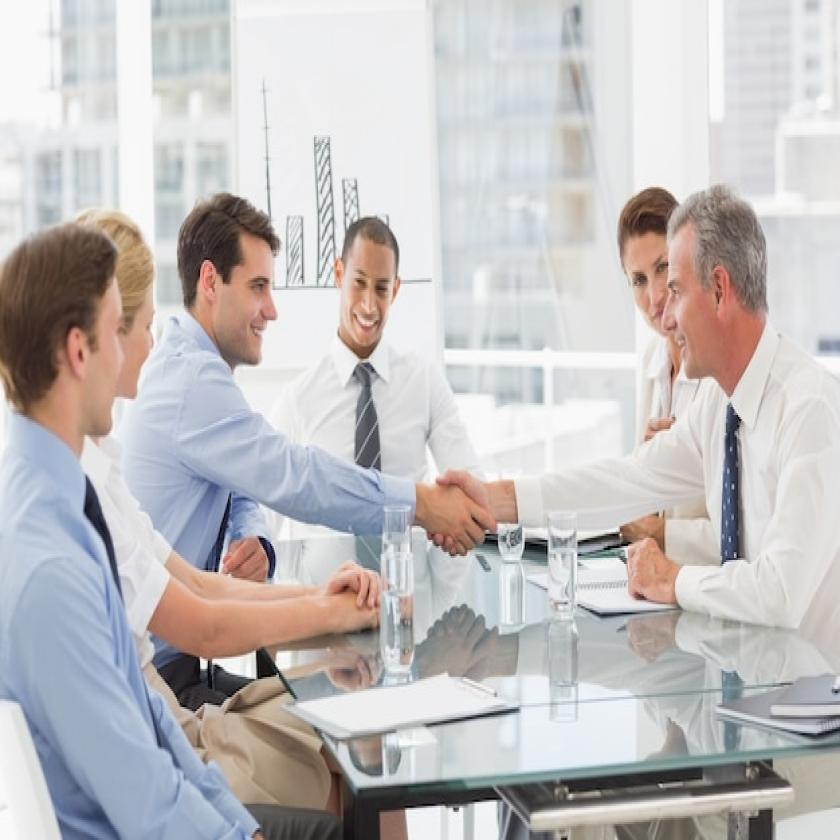Sin_casco: (0, 235, 127, 445), (667, 188, 768, 400), (177, 194, 288, 379), (86, 206, 157, 411), (333, 213, 406, 352), (616, 181, 676, 339)
